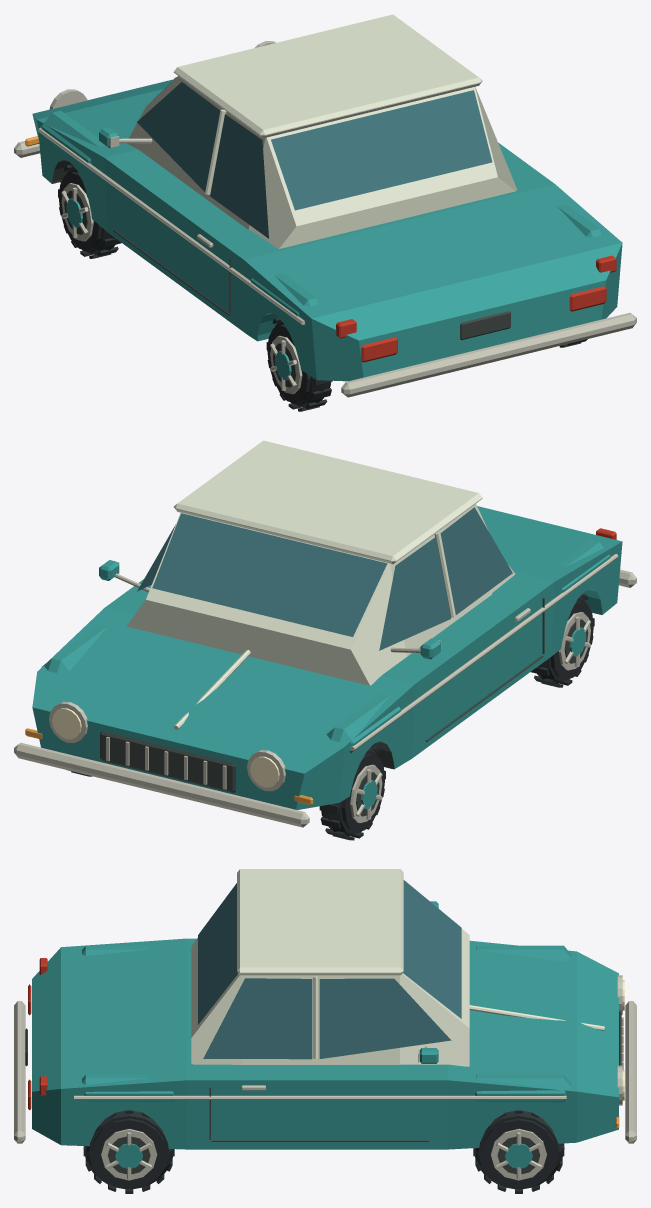
File: compact_detail.glb
The picture shows the model from 3 angles, top to bottom: view 1: azimuth 30°, elevation 25°; view 2: azimuth 150°, elevation 25°; view 3: azimuth 270°, elevation 25°; orthographic projection. The views are drawn at different scales.
Visible parts, largest first — view 1: CompactModel Copper enamel, CompactModel Warm cream, CompactModel Teal canopy, CompactModel Warm alloy, CompactModel Red lamp, Spin.001 Rubber charcoal, Spin Rubber charcoal, CompactModel Dark grille, Spin.001 Warm alloy, Spin Warm alloy; view 2: CompactModel Copper enamel, CompactModel Warm cream, CompactModel Teal canopy, CompactModel Warm alloy, CompactModel Dark grille, Spin Rubber charcoal, CompactModel Ivory lamp, Spin.001 Rubber charcoal, Spin Warm alloy, Spin.001 Warm alloy; view 3: CompactModel Copper enamel, CompactModel Warm cream, CompactModel Teal canopy, CompactModel Warm alloy, Spin.002 Rubber charcoal, Spin.003 Rubber charcoal, Spin.002 Warm alloy, Spin.003 Warm alloy, CompactModel Dark grille, Spin.003 Dark grille, Spin.002 Dark grille, Spin.003 Copper enamel (+2 smaller).
Boxes of the visible parts, <box> form: CompactModel Copper enamel: <box>32,79,622,381</box>; CompactModel Warm cream: <box>127,14,517,248</box>; CompactModel Teal canopy: <box>137,76,492,238</box>; CompactModel Warm alloy: <box>14,41,636,397</box>; CompactModel Red lamp: <box>336,255,616,362</box>; Spin.001 Rubber charcoal: <box>266,317,332,411</box>; Spin Rubber charcoal: <box>58,164,121,258</box>; CompactModel Dark grille: <box>113,229,510,340</box>; Spin.001 Warm alloy: <box>270,335,302,394</box>; Spin Warm alloy: <box>61,183,93,241</box>; CompactModel Copper enamel: <box>32,506,622,809</box>; CompactModel Warm cream: <box>126,440,515,729</box>; CompactModel Teal canopy: <box>137,507,512,650</box>; CompactModel Warm alloy: <box>14,554,636,827</box>; CompactModel Dark grille: <box>100,598,544,792</box>; Spin Rubber charcoal: <box>319,745,385,840</box>; CompactModel Ivory lamp: <box>52,708,279,787</box>; Spin.001 Rubber charcoal: <box>531,594,594,687</box>; Spin Warm alloy: <box>350,764,382,822</box>; Spin.001 Warm alloy: <box>558,612,590,670</box>; CompactModel Copper enamel: <box>32,901,618,1149</box>; CompactModel Warm cream: <box>191,869,604,1066</box>; CompactModel Teal canopy: <box>198,880,461,1059</box>; CompactModel Warm alloy: <box>14,975,636,1143</box>; Spin.002 Rubber charcoal: <box>473,1110,564,1193</box>; Spin.003 Rubber charcoal: <box>83,1110,174,1193</box>; Spin.002 Warm alloy: <box>491,1129,546,1180</box>; Spin.003 Warm alloy: <box>101,1129,157,1180</box>; CompactModel Dark grille: <box>25,1011,621,1141</box>; Spin.003 Dark grille: <box>108,1136,150,1174</box>; Spin.002 Dark grille: <box>497,1136,540,1174</box>; Spin.003 Copper enamel: <box>115,1143,142,1168</box>.
Size of the model in its own units: 1.84 by 1.19 by 3.17.
